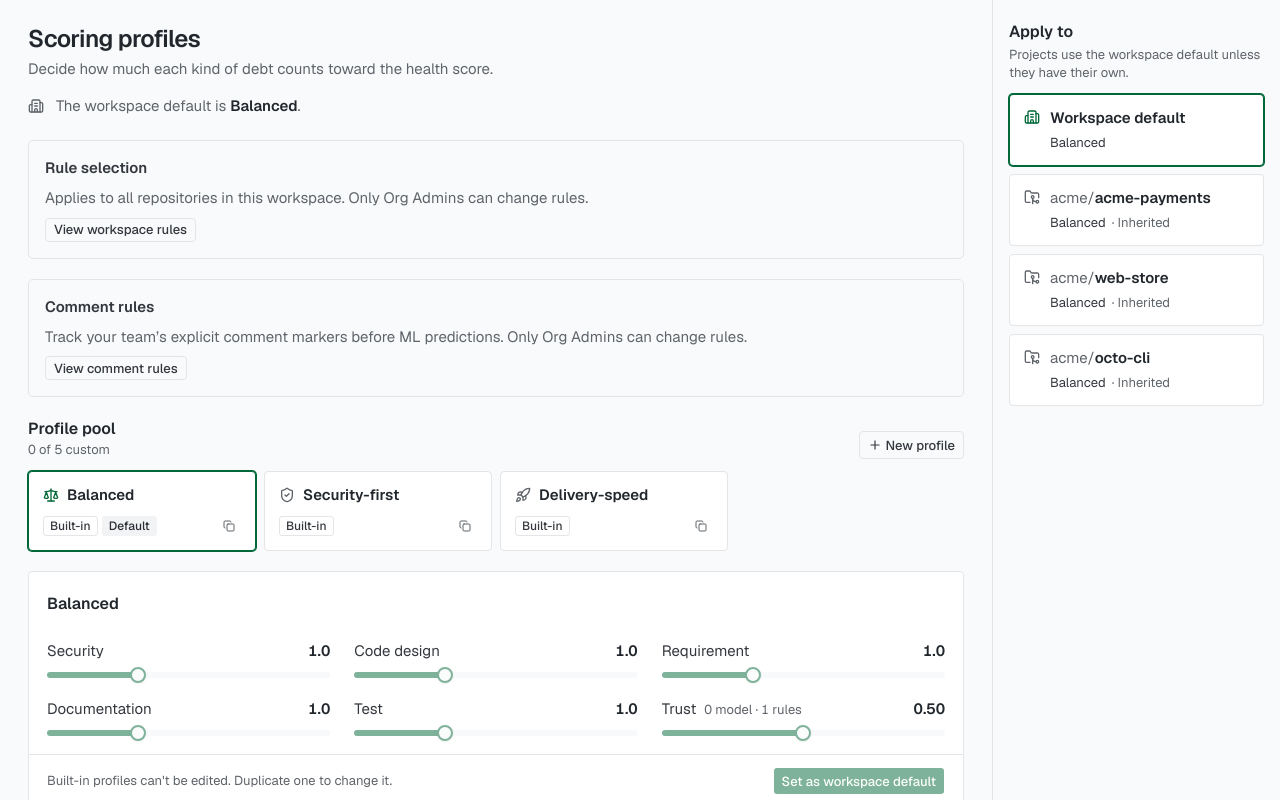
Test: selecting a card seeds the sliders from that profile
Check: the text with test id "value-security" reads "1.0", box [308,641,330,660]
Click the button "Security-first" at (378, 495), box [279,484,477,506]
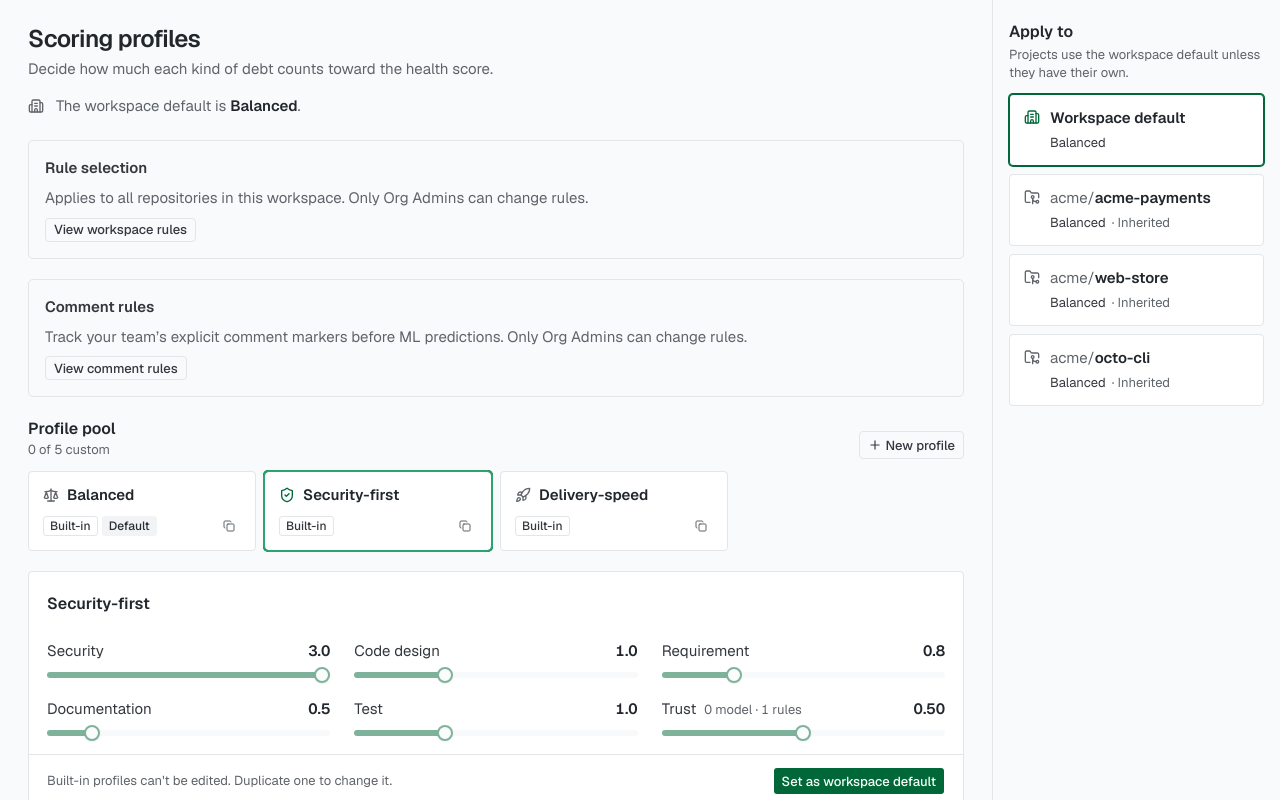
Check: the text with test id "value-security" reads "3.0", box [308,641,330,660]
Check: the text with test id "value-documentation" reads "0.5", box [308,699,330,718]
